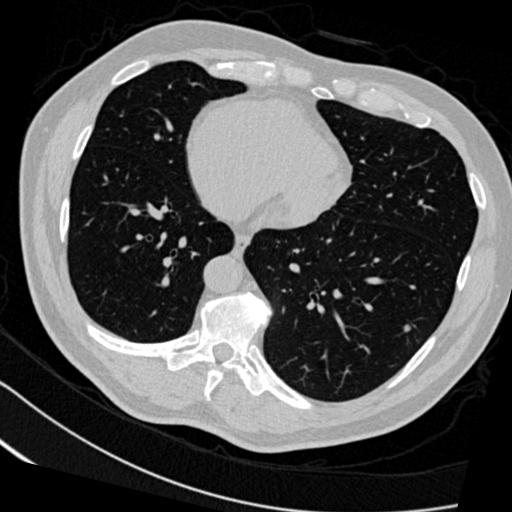nodule: (403, 322, 418, 337)
